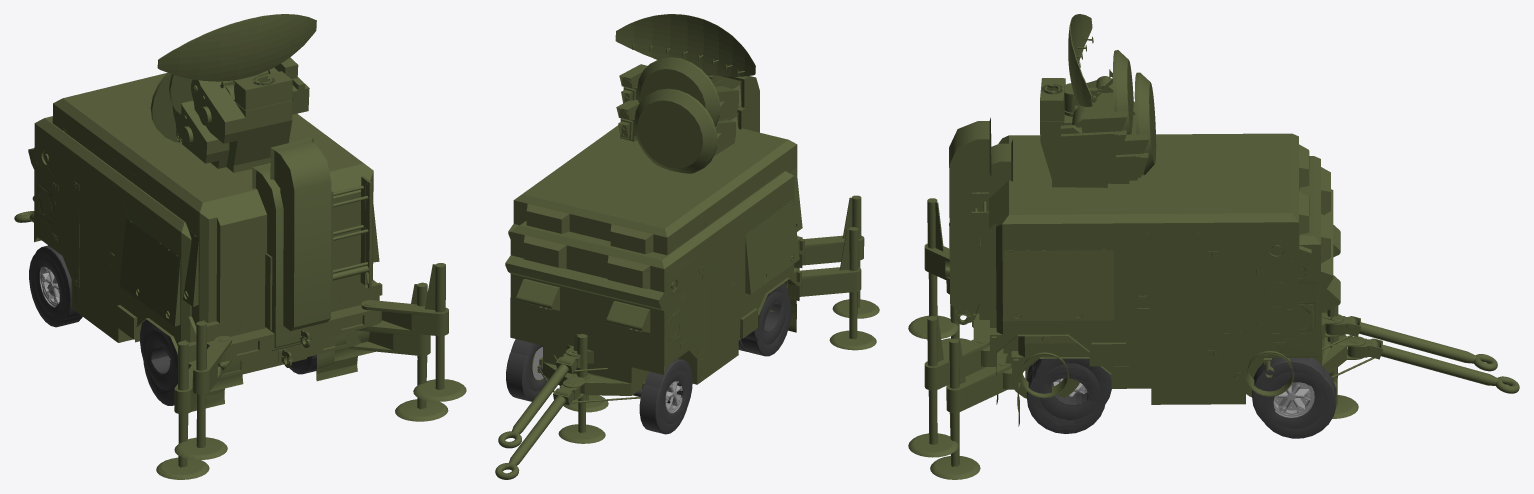
Rendered from stand2Radar.glb.
3 renders of one model, left to right at view 1: azimuth 30°, elevation 25°; view 2: azimuth 150°, elevation 25°; view 3: azimuth 270°, elevation 25°, orthographic. The views are drawn at different scales.
Parts seen in each view (by area): view 1: Scene Root_OSG_LOD001_body001_body001-OFFSET_body001-GEODE_M (×3), Scene Root_OSG_LOD001_body002_body002-OFFSET_body002-GEODE_M (×2), Scene Root_OSG_LOD001_body003_body003-OFFSET_body003-GEODE_M, Scene Root_Group001_Group#75 [844860]_Group#75 [844860]-OFFS; view 2: Scene Root_OSG_LOD001_body002_body002-OFFSET_body002-GEODE_M (×2), Scene Root_OSG_LOD001_body001_body001-OFFSET_body001-GEODE_M (×3), Scene Root_OSG_LOD001_body003_body003-OFFSET_body003-GEODE_M, Scene Root_Group001_Group#75 [844860]_Group#75 [844860]-OFFS; view 3: Scene Root_OSG_LOD001_body001_body001-OFFSET_body001-GEODE_M (×3), Scene Root_OSG_LOD001_body002_body002-OFFSET_body002-GEODE_M (×2), Scene Root_OSG_LOD001_body003_body003-OFFSET_body003-GEODE_M, Scene Root_Group001_Group#75 [844860]_Group#75 [844860]-OFFS.
Part boxes in pixels (box(x1,y1,x2,y2)): Scene Root_OSG_LOD001_body001_body001-OFFSET_body001-GEODE_M (×3): box(29, 57, 466, 460); Scene Root_OSG_LOD001_body002_body002-OFFSET_body002-GEODE_M (×2): box(14, 72, 448, 479); Scene Root_OSG_LOD001_body003_body003-OFFSET_body003-GEODE_M: box(19, 97, 433, 476); Scene Root_Group001_Group#75 [844860]_Group#75 [844860]-OFFS: box(157, 14, 316, 81); Scene Root_OSG_LOD001_body002_body002-OFFSET_body002-GEODE_M (×2): box(495, 88, 876, 479); Scene Root_OSG_LOD001_body001_body001-OFFSET_body001-GEODE_M (×3): box(498, 57, 879, 448); Scene Root_OSG_LOD001_body003_body003-OFFSET_body003-GEODE_M: box(499, 90, 862, 473); Scene Root_Group001_Group#75 [844860]_Group#75 [844860]-OFFS: box(615, 14, 755, 76); Scene Root_OSG_LOD001_body001_body001-OFFSET_body001-GEODE_M (×3): box(908, 50, 1497, 457); Scene Root_OSG_LOD001_body002_body002-OFFSET_body002-GEODE_M (×2): box(930, 72, 1519, 479); Scene Root_OSG_LOD001_body003_body003-OFFSET_body003-GEODE_M: box(939, 73, 1515, 471); Scene Root_Group001_Group#75 [844860]_Group#75 [844860]-OFFS: box(1068, 14, 1092, 106).
Size of the model in its own units: 2.03 by 2.5 by 3.62.
